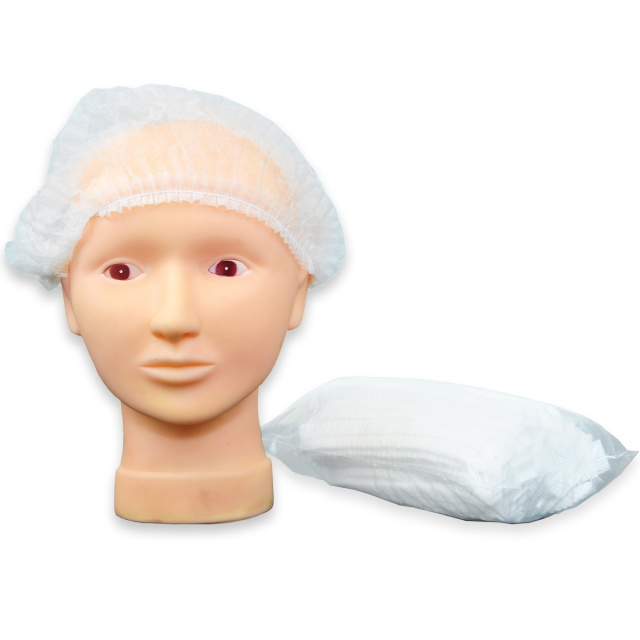Hairnet: (60, 107, 320, 200)
